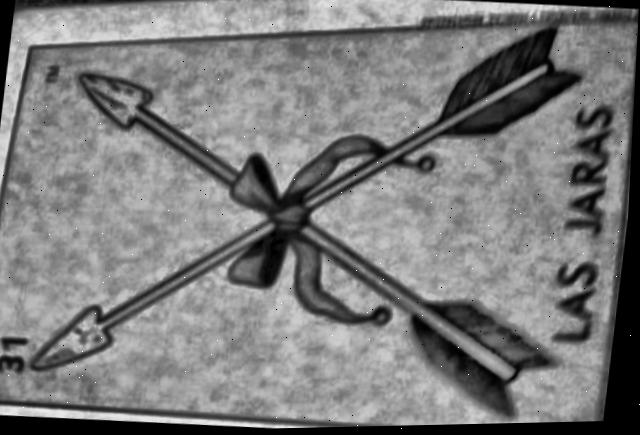Las Jaras: (0, 23, 637, 427)
